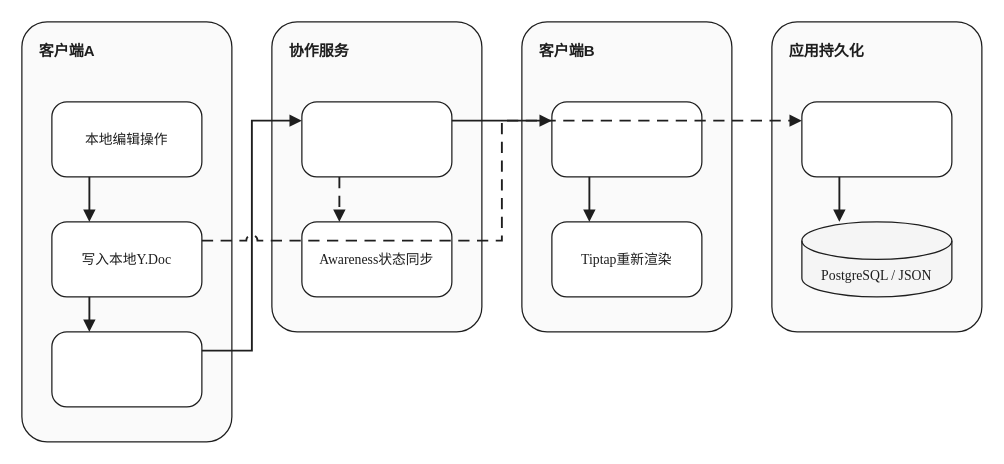
The diagram is 1004 pixels wide and 464 high, and some of its shapes have lost their labels. Here are the shapes that lost their labels. From the top down, the centre of each, then its label:
At [376,139]: "Hocuspocus房间广播".
At [626,139]: "远端Y.Doc合并".
At [876,139]: "自动保存节流".
At [126,369]: "生成CRDT update".
